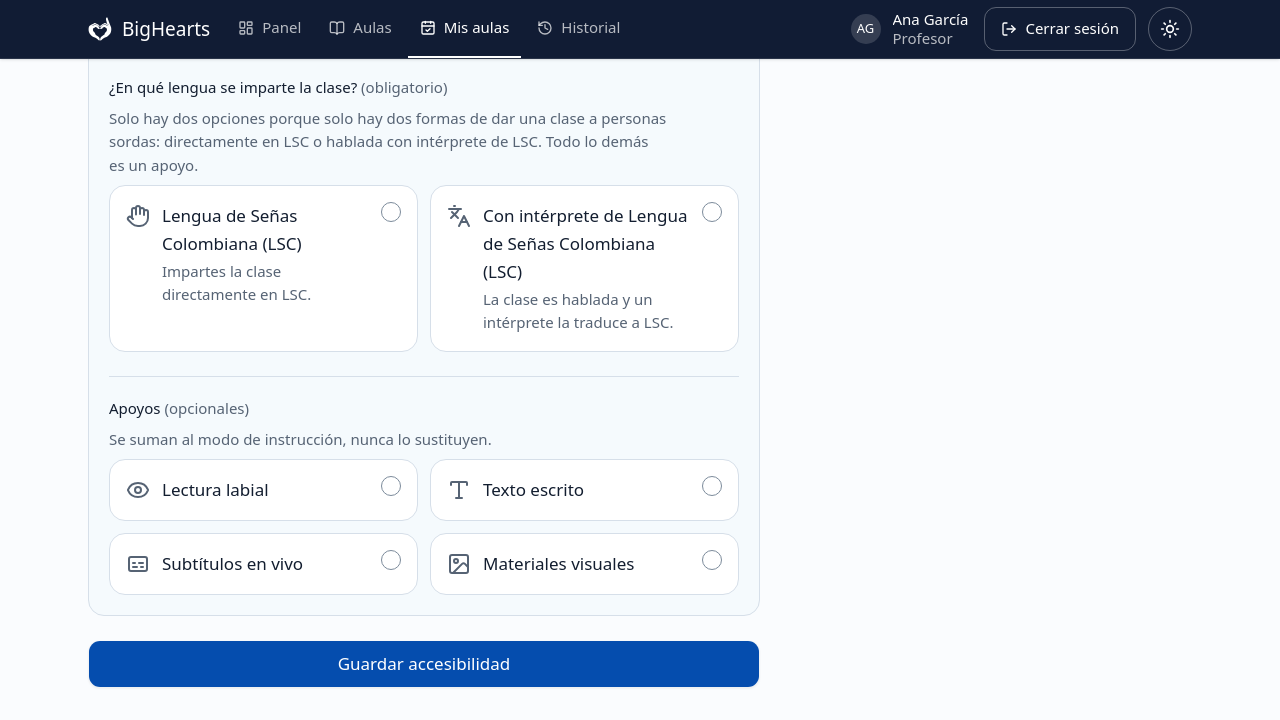
Test case: CompletarAccesibilidadPage — completar y guardar (AC1) › sin elegir el modo de instrucción, no envía y pinta el error bajo el grupo
(page scrolled)
Check: the radio button labelled "Lengua de Señas Colombiana (LSC)" is shown, box [109, 185, 418, 352]
Click the button "Guardar accesibilidad".
click(424, 664)  # box [88, 640, 760, 688]
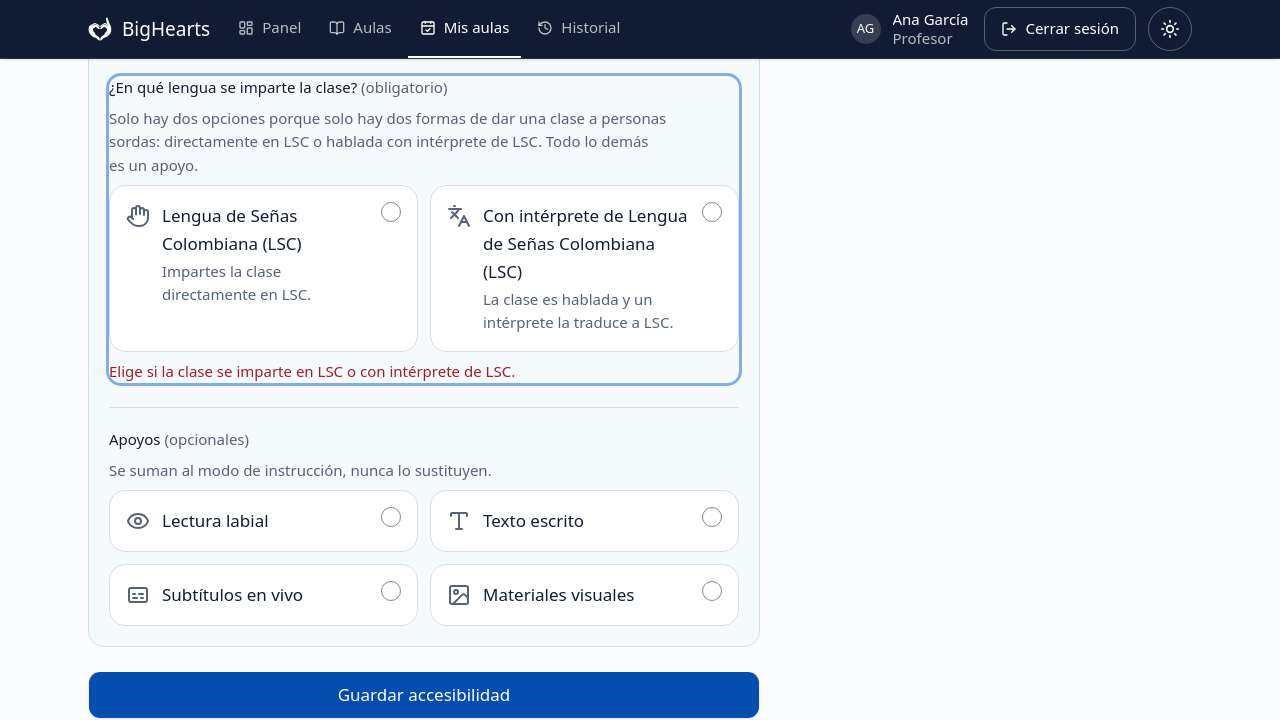
Check: the text "Elige si la clase se imparte en LSC o con intérprete de LSC." is shown, box [109, 361, 515, 381]
